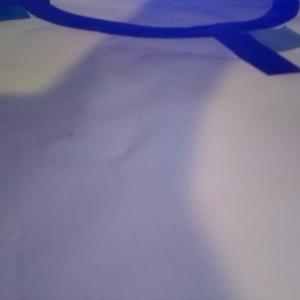bottom_left: (1, 1, 29, 20)
bottom_right: (233, 22, 299, 52)
